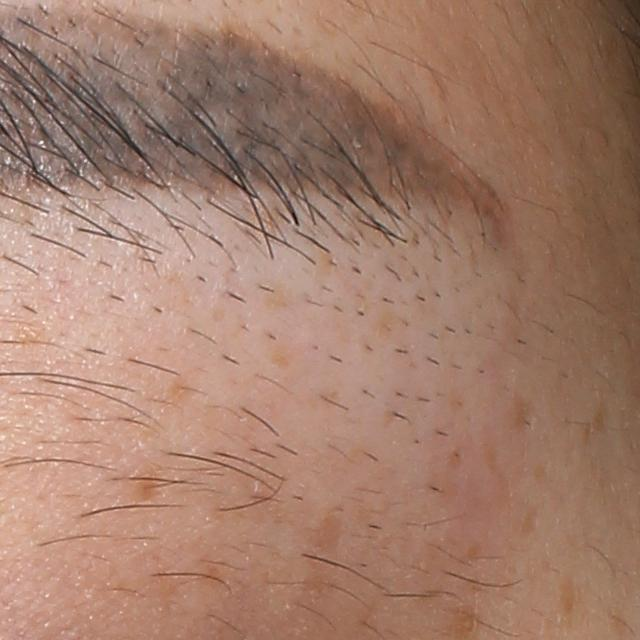melasma: (475, 423, 524, 504), (301, 513, 346, 556), (553, 571, 583, 620), (129, 469, 163, 505), (519, 504, 542, 539)
